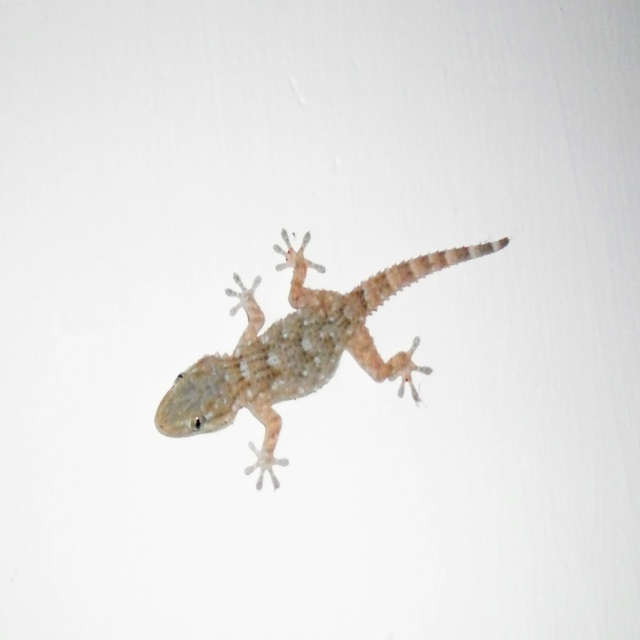Lizard: (153, 227, 505, 490)
